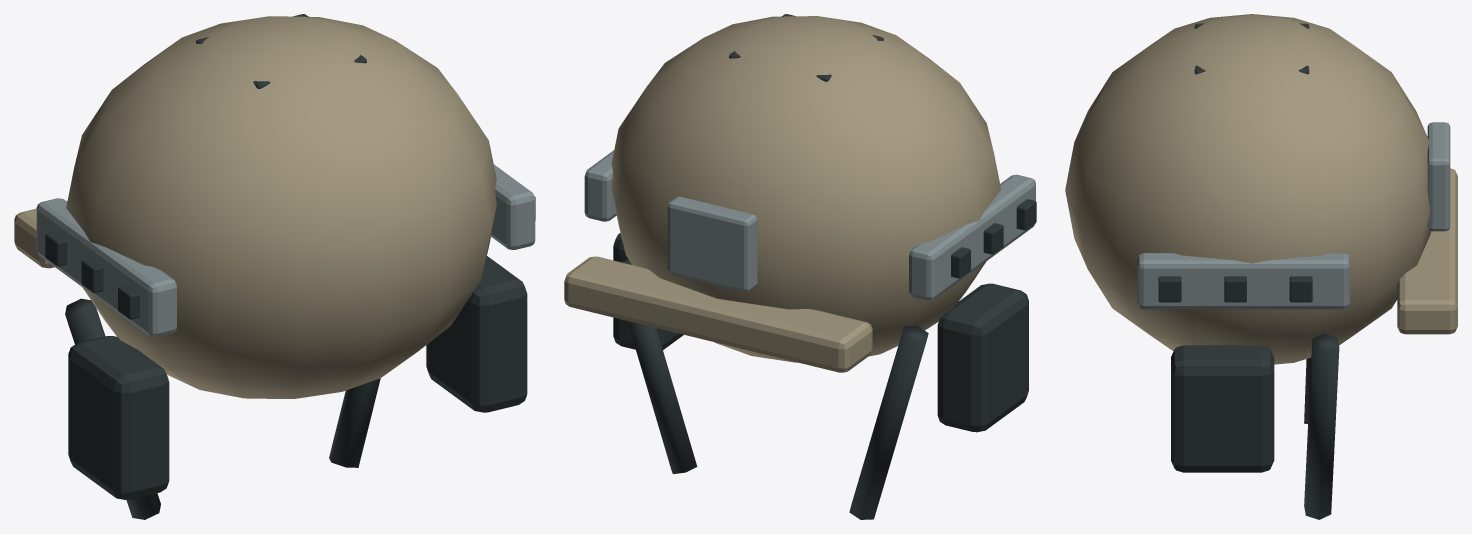
The model's file is helmet_moss_2a.glb.
3 views of the same model, side by side, from view 1: azimuth 30°, elevation 25°; view 2: azimuth 150°, elevation 25°; view 3: azimuth 270°, elevation 25° (orthographic). The views are drawn at different scales.
Parts seen in each view (by area): view 1: helmet_moss_2a; view 2: helmet_moss_2a; view 3: helmet_moss_2a.
Part boxes in pixels (bbox=[...]): helmet_moss_2a: bbox=[14, 14, 535, 519]; helmet_moss_2a: bbox=[564, 14, 1036, 519]; helmet_moss_2a: bbox=[1065, 14, 1457, 519].
Size of the model in its own units: 0.263 by 0.2936 by 0.2395.
